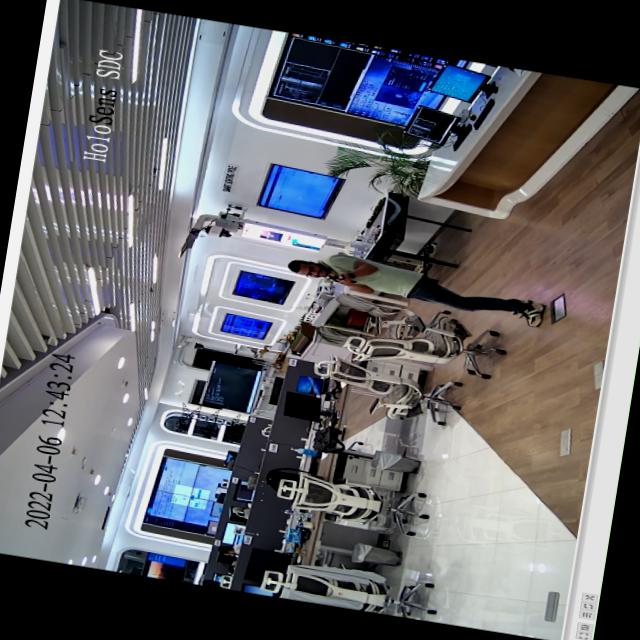long weapon: (316, 265, 368, 291)
